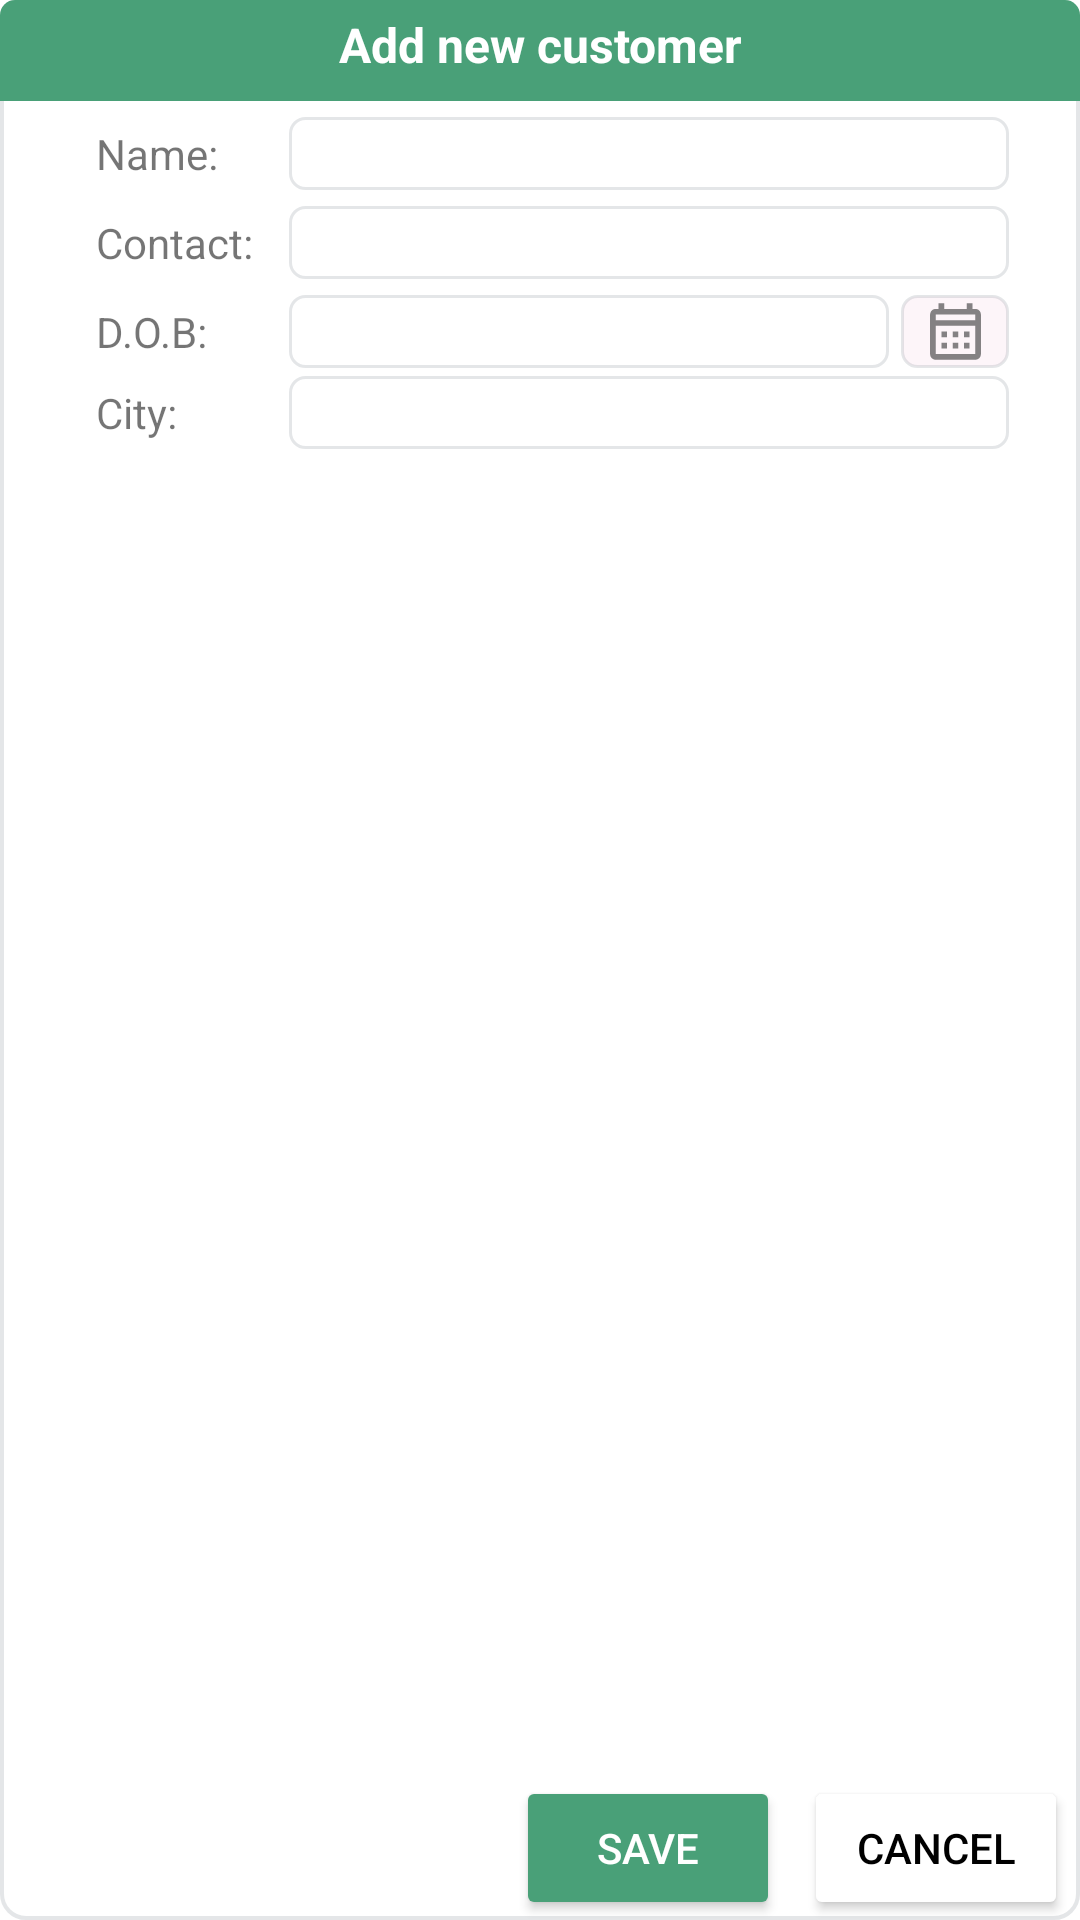

Icons on this 1080 × 1920 Android screen, each with the point to tap as (x,y):
date: (955,331)
